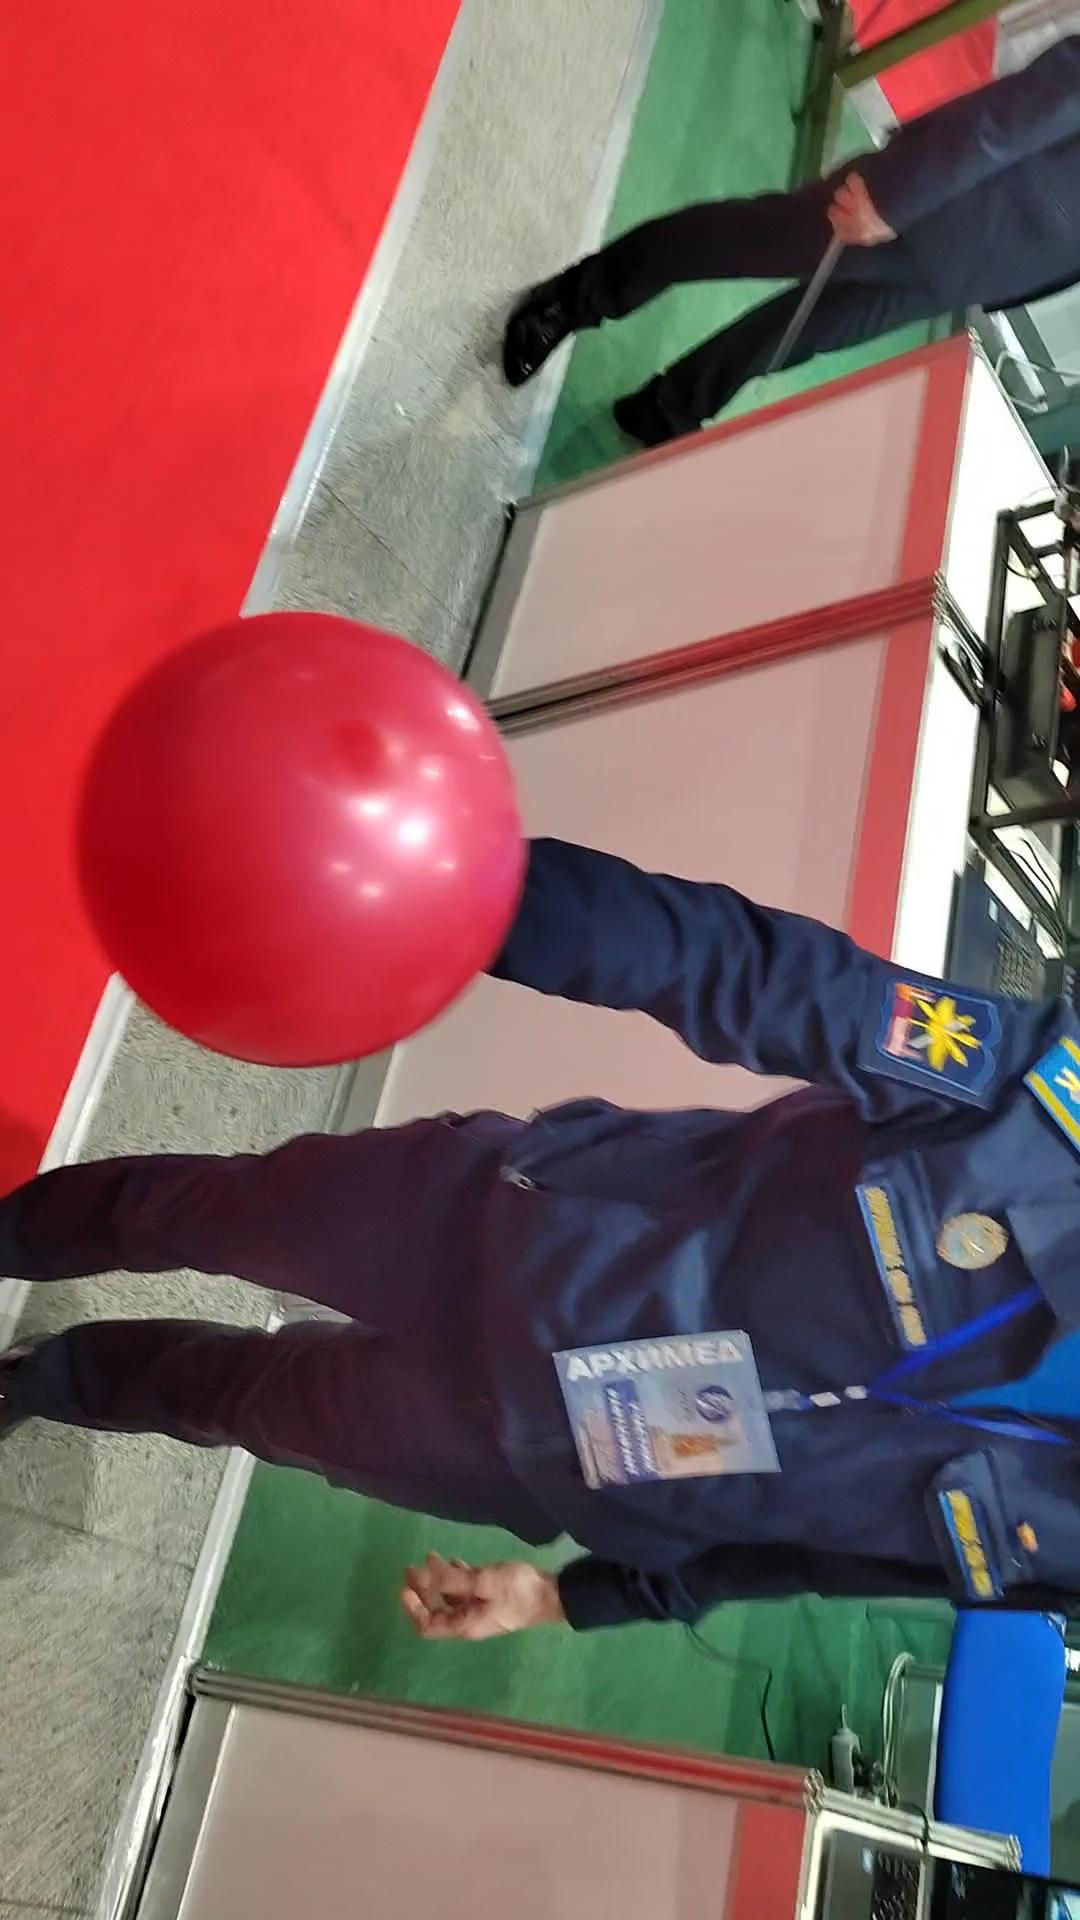red: (65, 607, 526, 1067)
